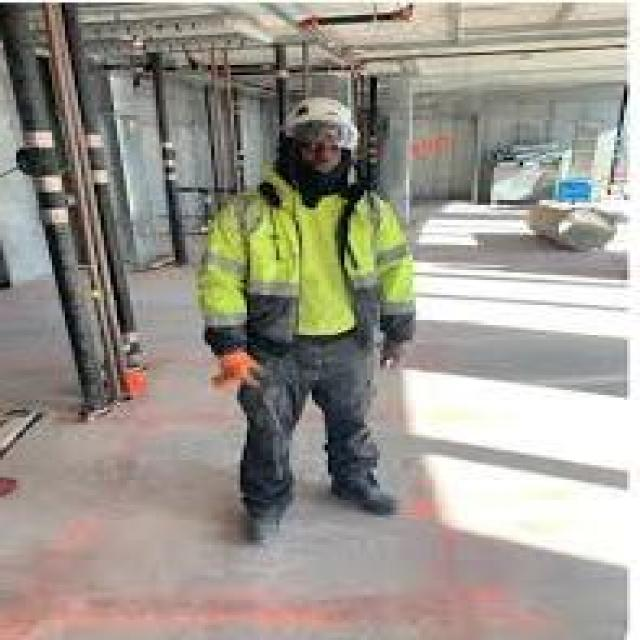Reflective-Jacket: (182, 172, 435, 360)
Safety-Helmet: (266, 88, 374, 148)
